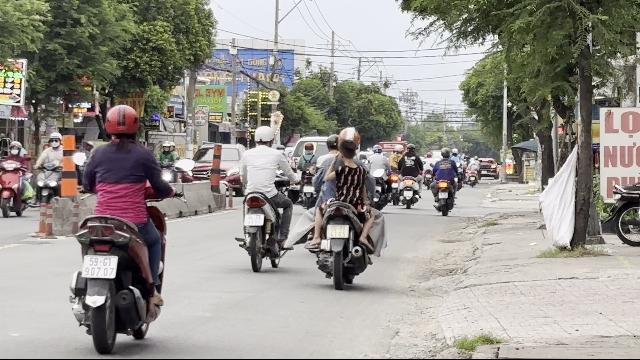helmet: (102, 104, 140, 142), (337, 128, 359, 154), (252, 126, 274, 146)
licenseplate: (82, 255, 116, 277), (326, 224, 349, 238), (244, 214, 264, 226)
motorcyclist: (66, 100, 176, 350), (304, 126, 386, 288), (233, 124, 295, 270)
nohelmet: (338, 138, 358, 166)
